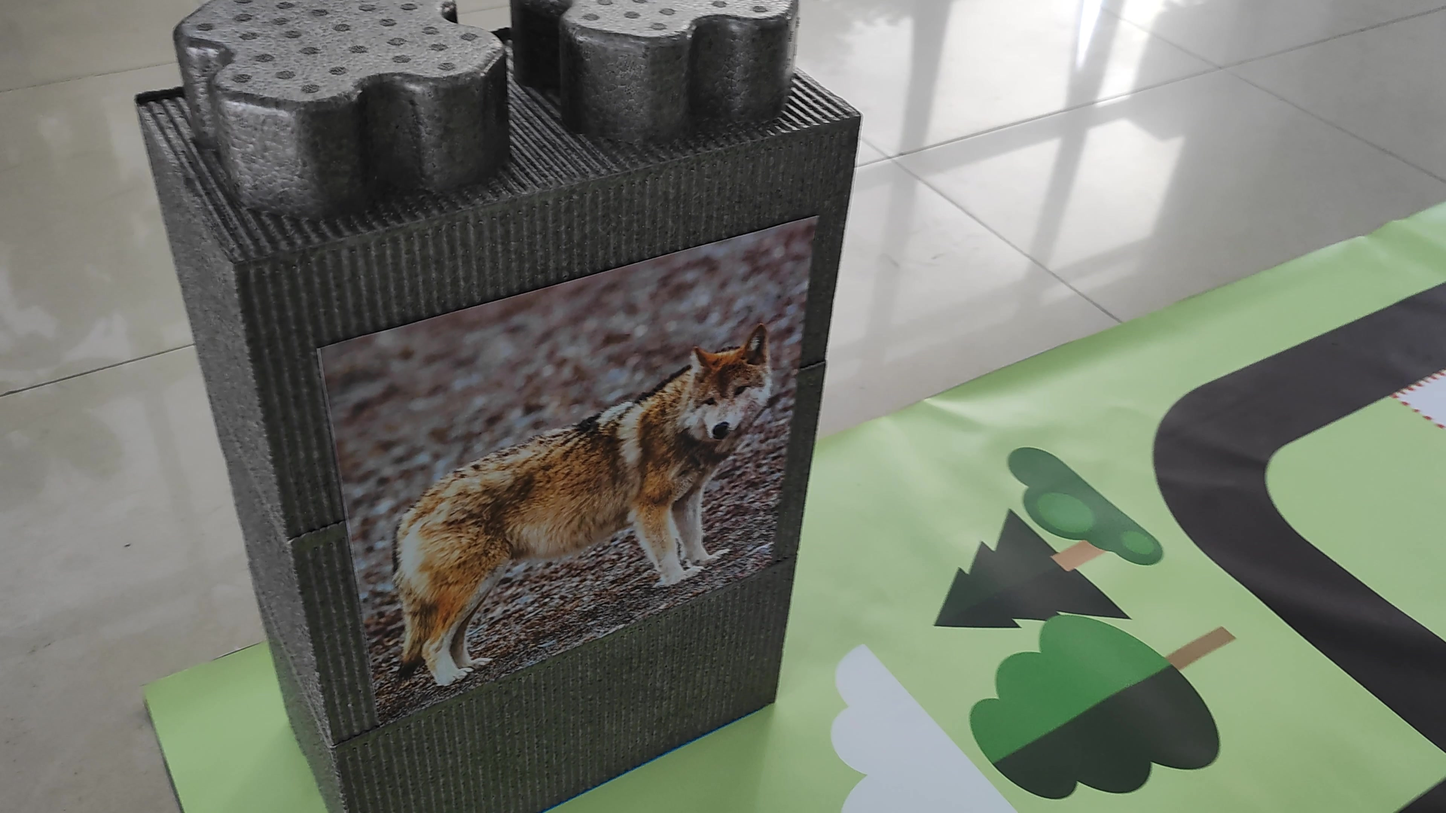wolf: (375, 302, 802, 690)
